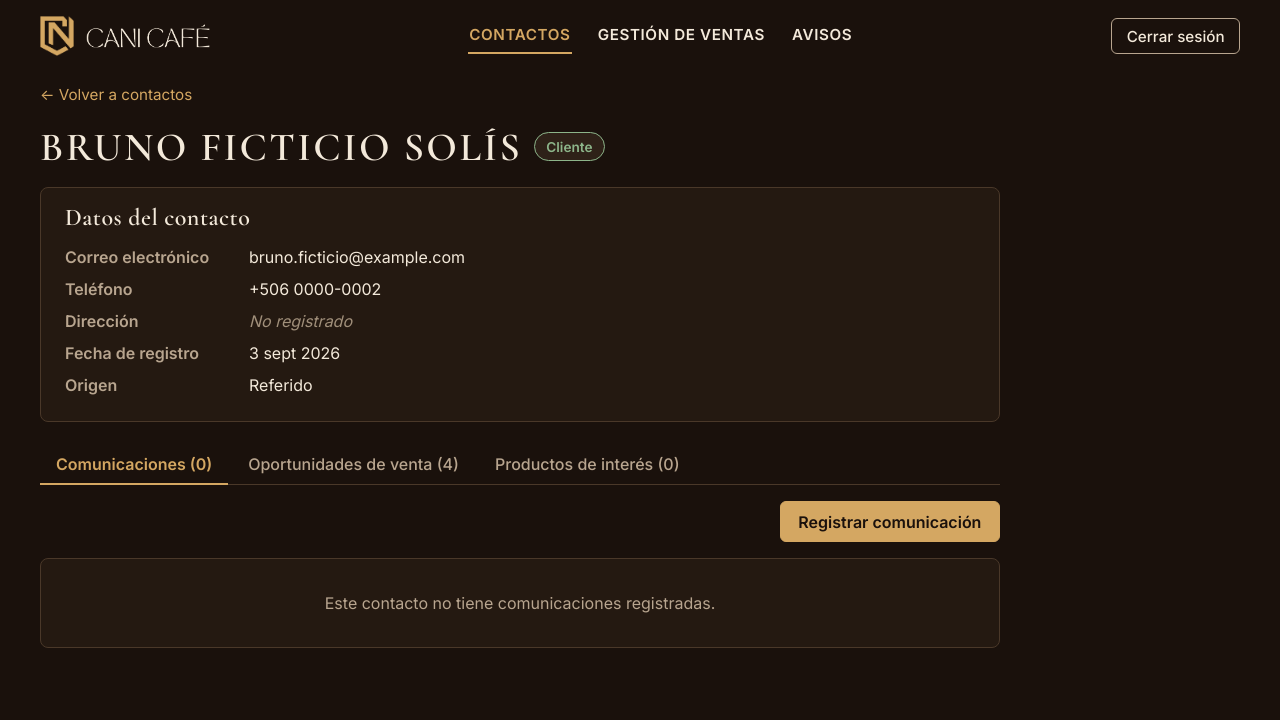
Test case: HU-212 Relacionar una comunicación con una oportunidad de venta › criterio 3: al elegir una oportunidad de venta se guarda con esa venta (el repositorio actualiza su última comunicación)
Check: the tab "Oportunidades de venta (4)" is shown, box [232,446,475,485]
Click the button "Registrar comunicación" at (890, 522), box [780,501,1000,542]
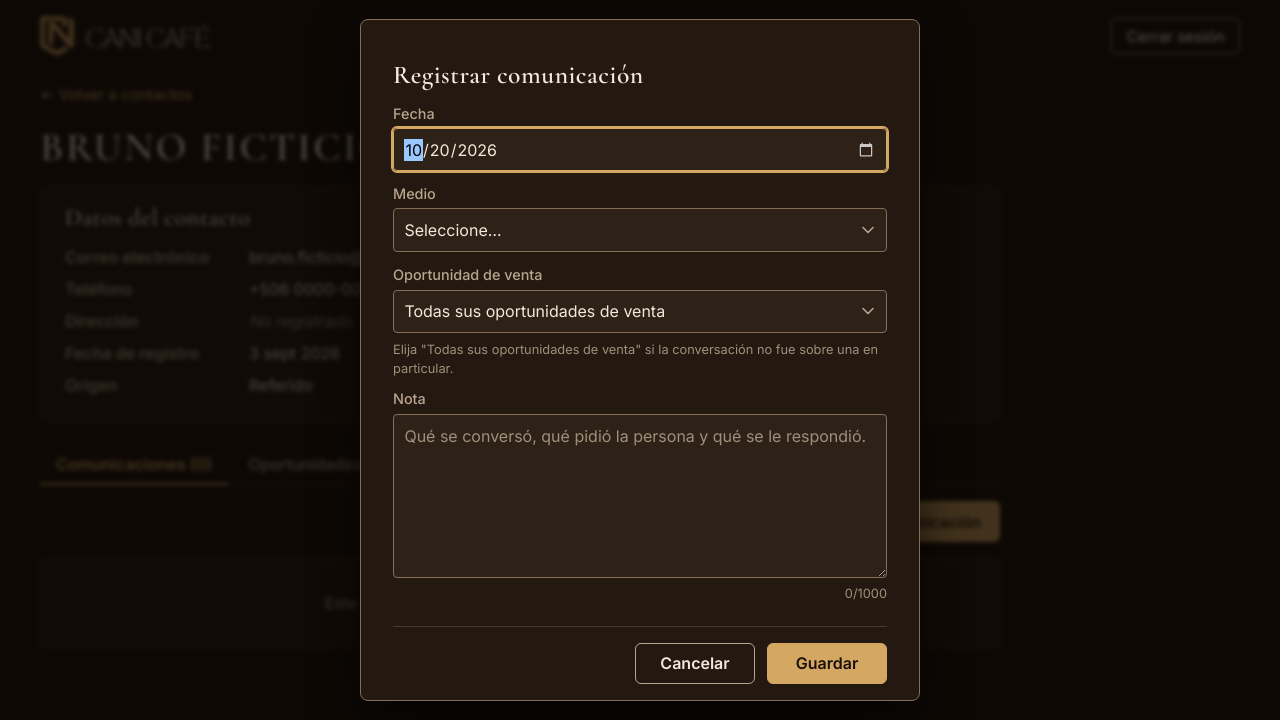
Select "Llamada telefónica" in the dropdown labelled "Medio" at (640, 230), box [393,208,887,252]
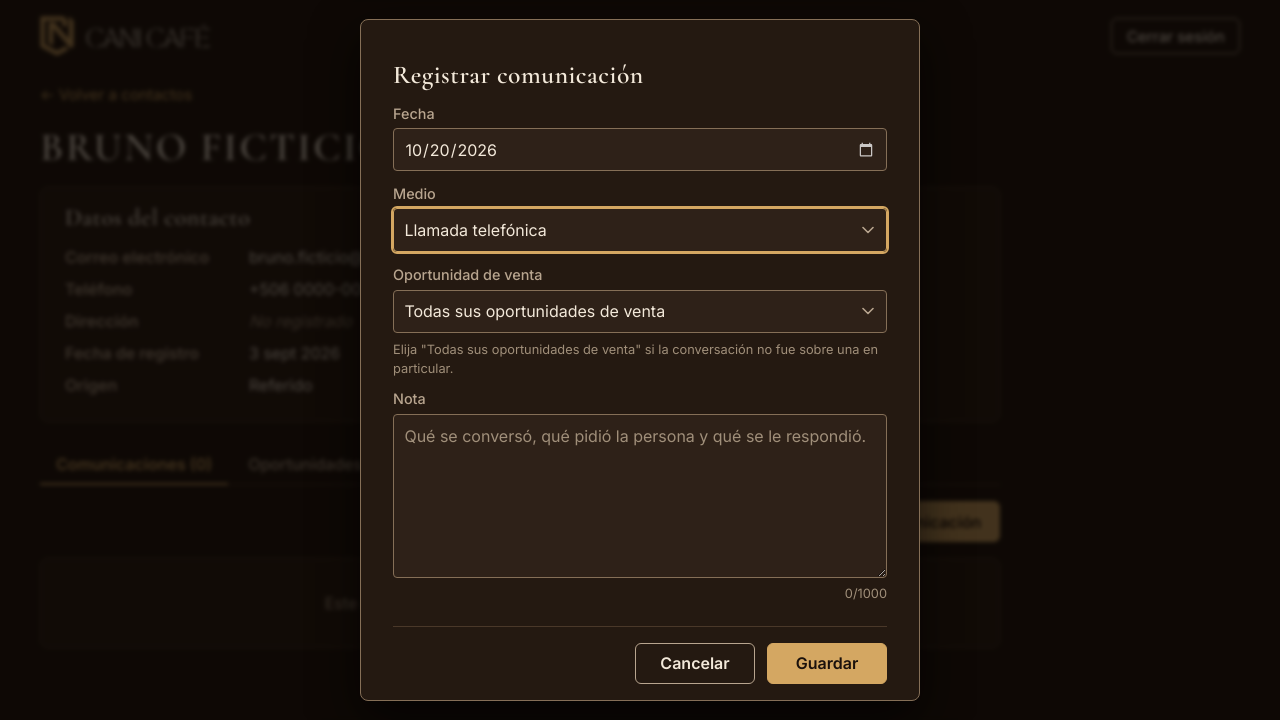
Type "Conversamos sobre el pedido." into the text box labelled "Nota" at (640, 496), box [393,414,887,578]
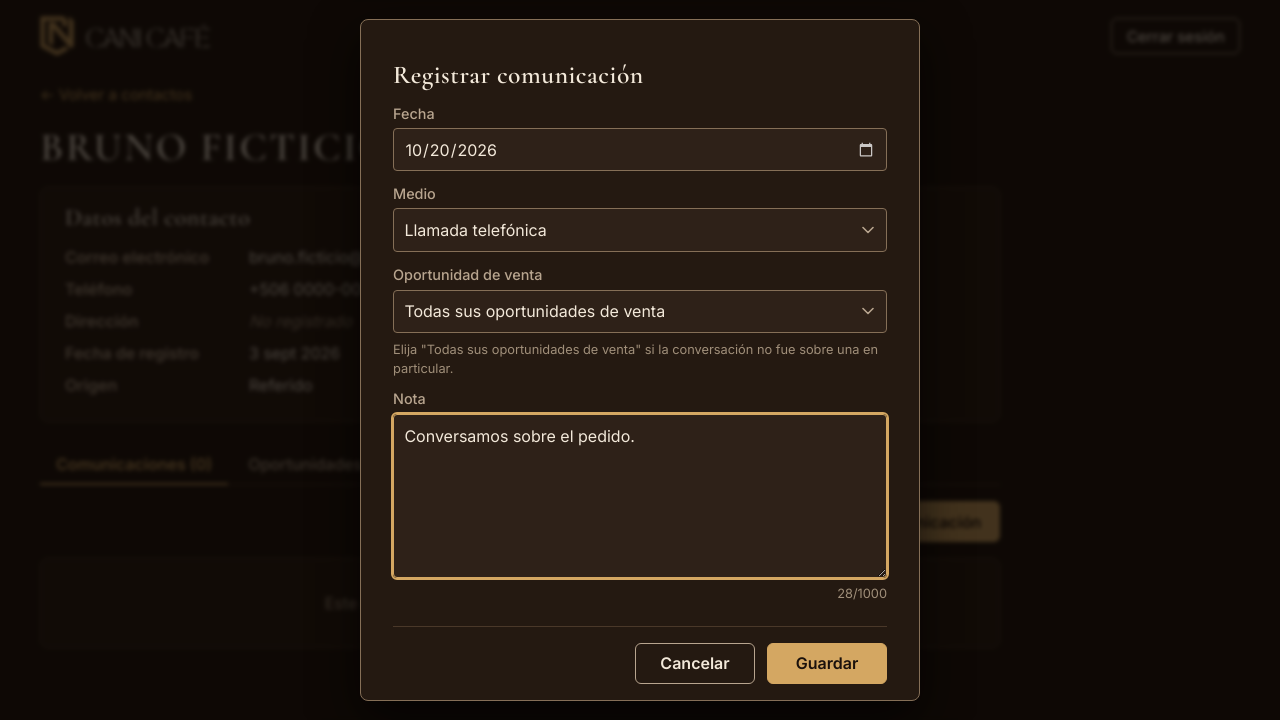
Select "Café en grano para cafetería" in the dropdown labelled "Oportunidad de venta" at (640, 312), box [393,290,887,333]
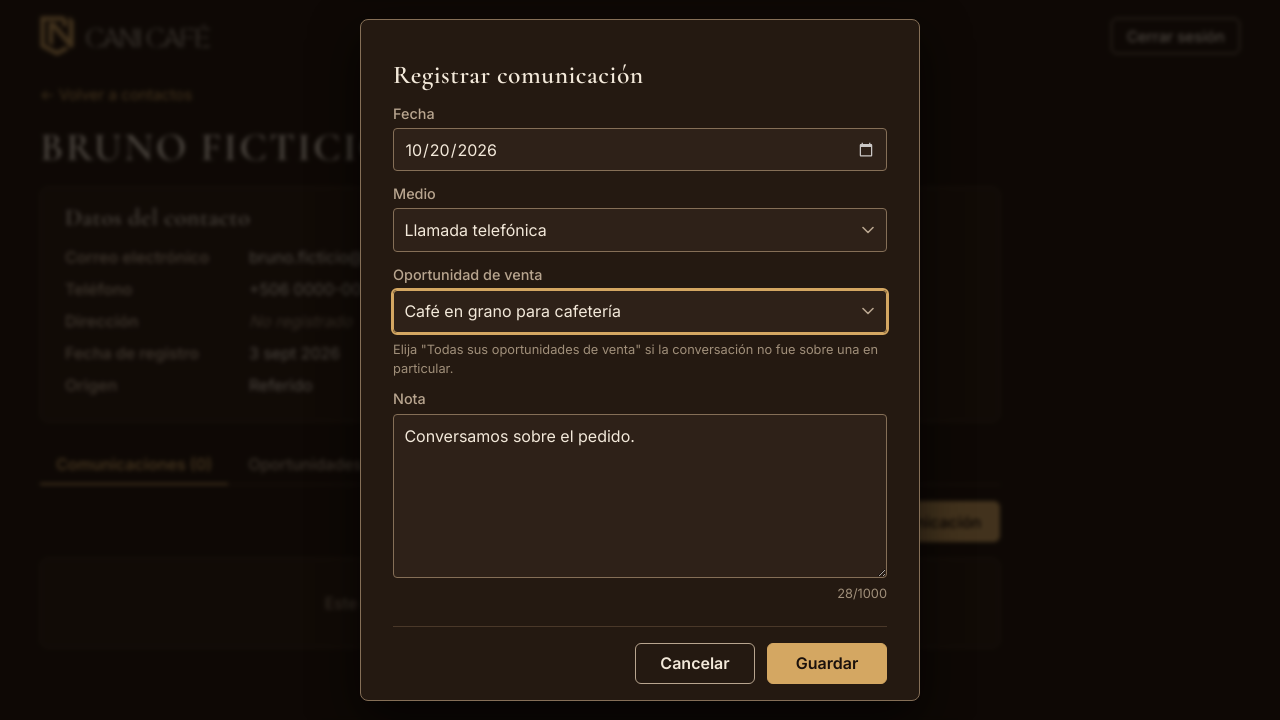
Click the button "Guardar" at (827, 663), box [767,643,887,684]
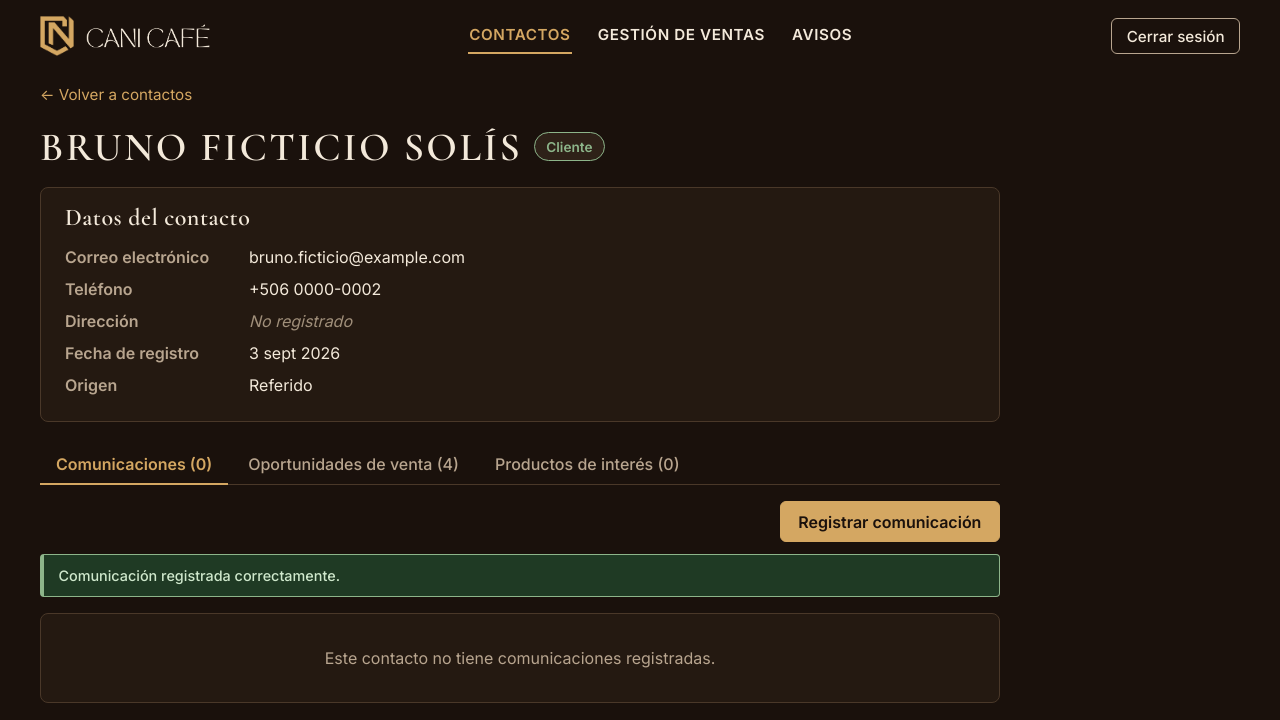
Check: the text "Comunicación registrada correctamente." is shown, box [40,554,1000,597]
